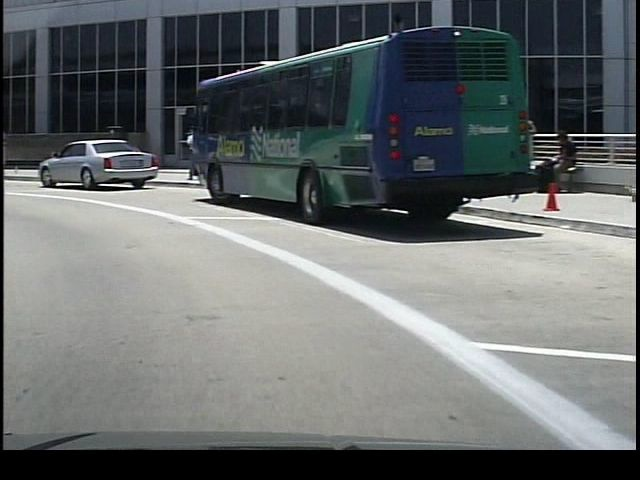person: (532, 127, 575, 195)
